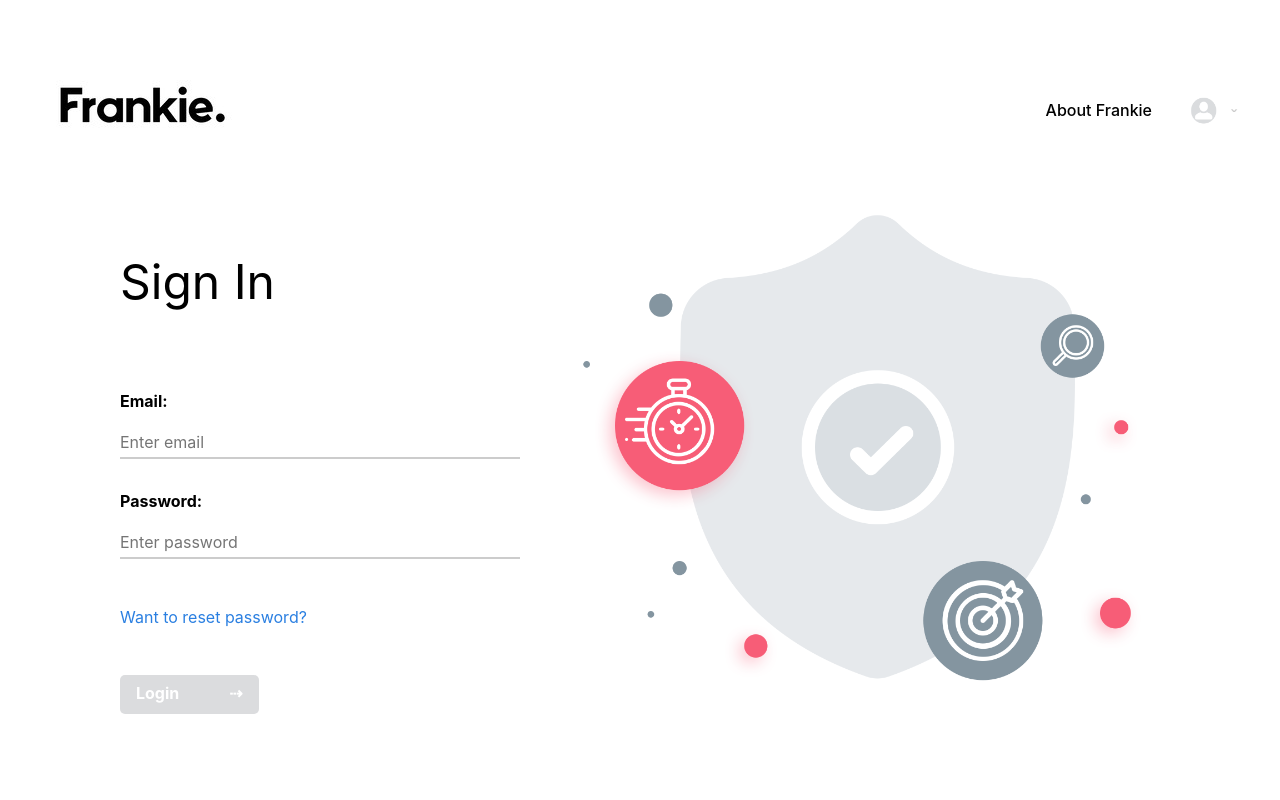
Navigation › check validations error show input is empty
The width and height of the screenshot is (1280, 800).
Click the button "Login" at {"x": 190, "y": 695}, box [120,675,259,714]
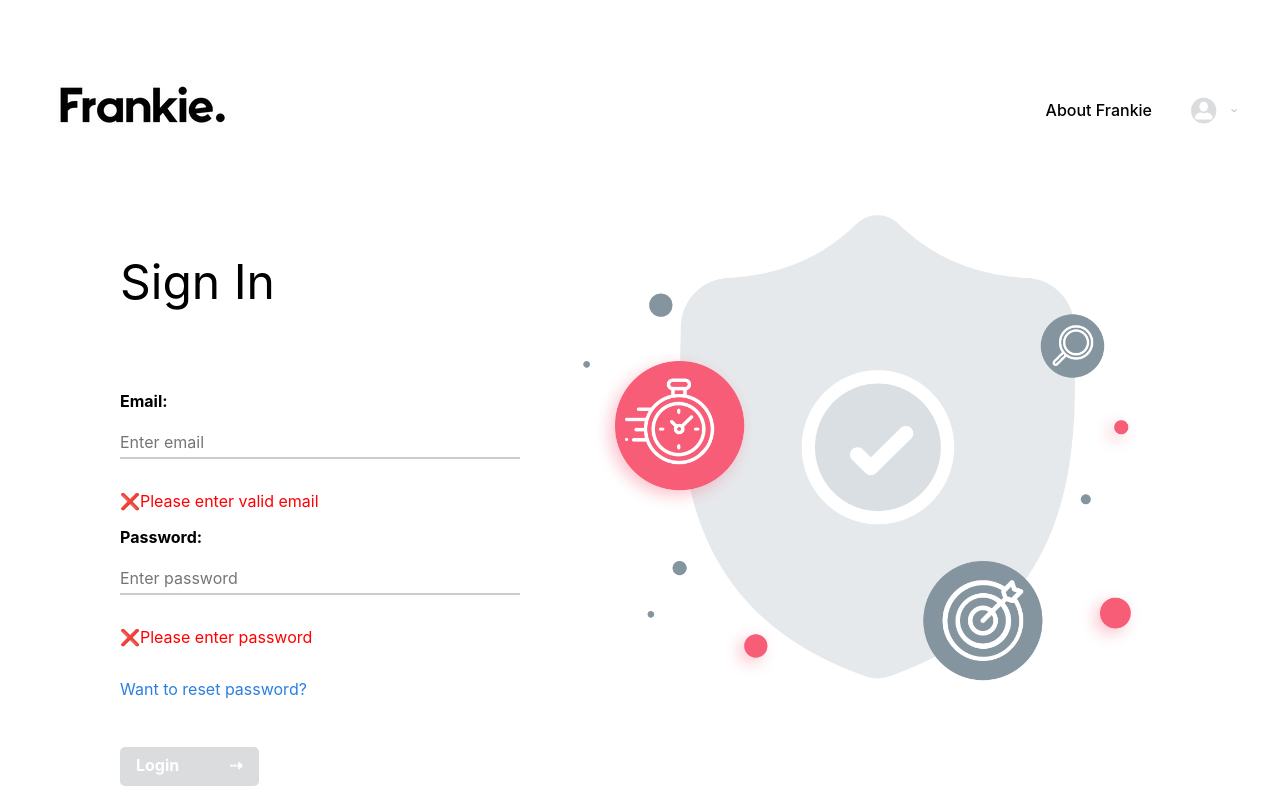
Check: the text "Please enter valid email" is shown, box [140,491,319,511]
Check: the text "Please enter password" is shown, box [140,627,312,647]
